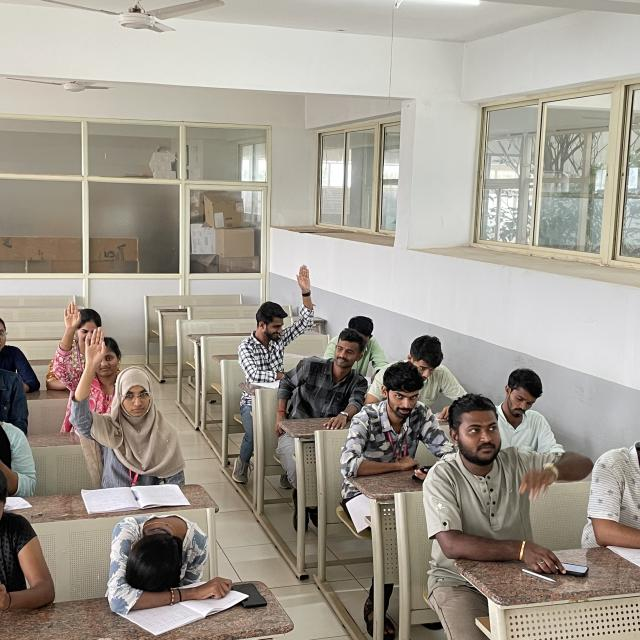Hand Rising: (69, 338, 188, 485), (236, 264, 316, 372), (45, 299, 120, 395)
Reading: (589, 400, 640, 563)
Sleeping: (103, 499, 242, 615)
Using Phone: (345, 360, 455, 495)
